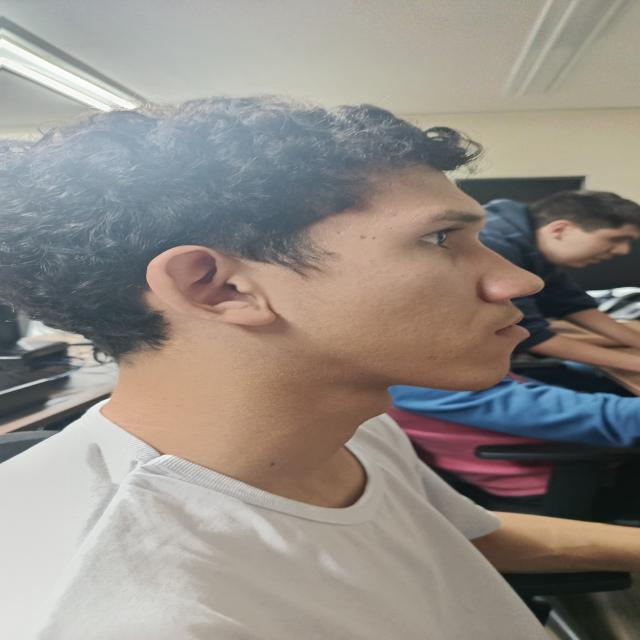sem_oculos: (162, 211, 551, 288), (558, 221, 640, 250)
